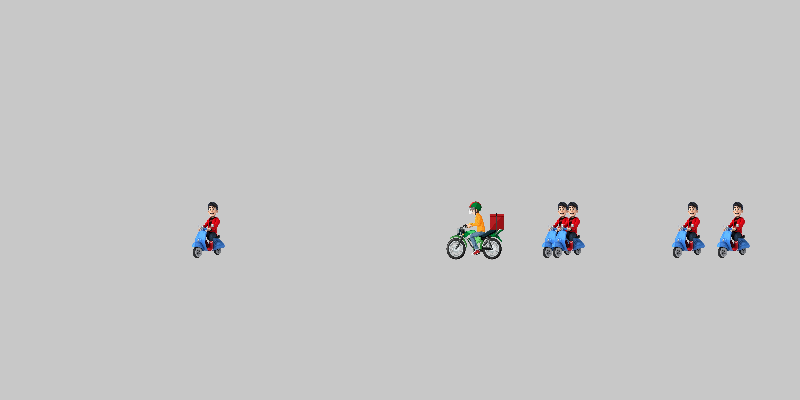helmet: (445, 200, 505, 260)
no_helmet: (180, 200, 240, 260), (530, 200, 590, 260), (540, 200, 600, 260), (660, 200, 720, 260), (705, 200, 765, 260)
